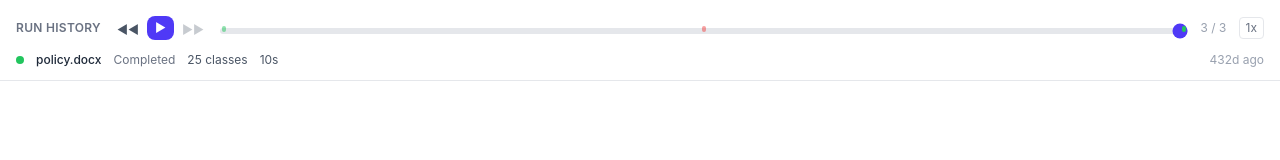
PipelineHistorySlider › has a speed control button
Click the button with test id "history-speed" at (1251, 28), box [1238, 17, 1264, 39]
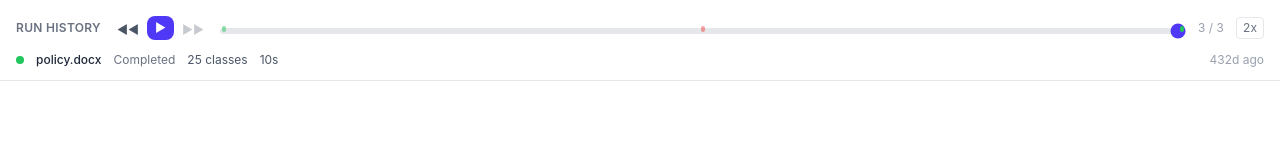
Expected: the button with test id "history-speed" reads "2x", [1236, 17, 1264, 39]
